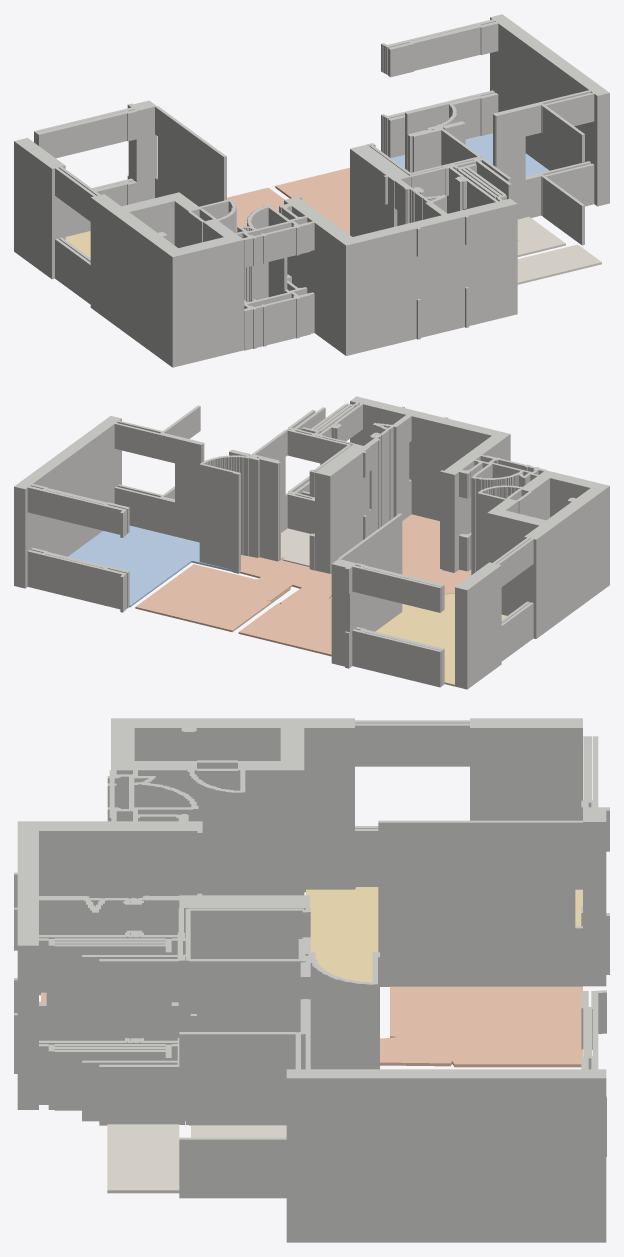
3 views of the same model, one above another, from view 1: azimuth 30°, elevation 25°; view 2: azimuth 150°, elevation 25°; view 3: azimuth 270°, elevation 25° (orthographic). The views are drawn at different scales.
Parts seen in each view (by area): view 1: walls, room:kitchen:2, room:other:9, room:other:5, room:bedroom:1; view 2: walls, room:kitchen:2, room:bedroom:1, room:living:0, room:other:4; view 3: walls, room:kitchen:2, room:living:0, room:other:9, room:other:5.
Boxes of the visible parts, box(x1,y1,x2,y2) form: walls: box(14, 14, 609, 367); room:kitchen:2: box(227, 167, 349, 234); room:other:9: box(517, 244, 601, 284); room:other:5: box(517, 217, 565, 256); room:bedroom:1: box(391, 133, 549, 176); walls: box(14, 396, 609, 689); room:kitchen:2: box(135, 514, 471, 656); room:bedroom:1: box(68, 525, 232, 607); room:living:0: box(375, 593, 506, 686); room:other:4: box(281, 528, 310, 566); walls: box(14, 718, 609, 1242); room:kitchen:2: box(41, 986, 582, 1067); room:living:0: box(306, 887, 582, 982); room:other:9: box(107, 1124, 179, 1193); room:other:5: box(191, 1125, 286, 1137).
Size of the model in its own units: 13.16 by 2.8 by 9.21.
